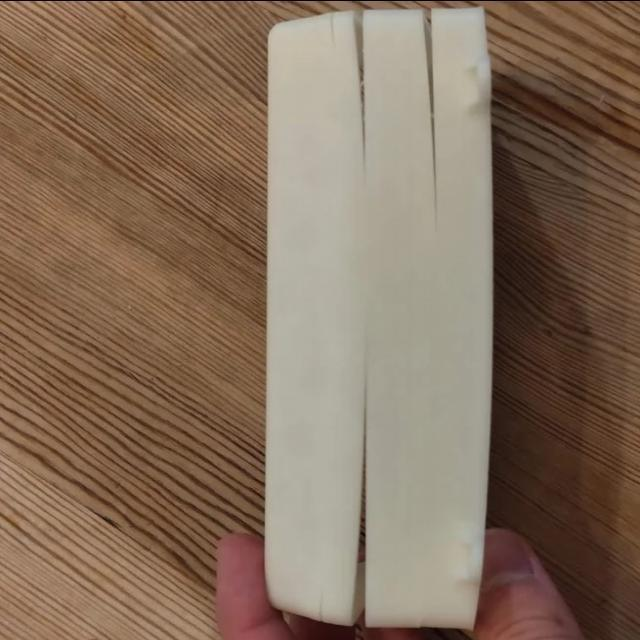Warping: (336, 522, 371, 626), (346, 6, 369, 80), (412, 8, 434, 70)
